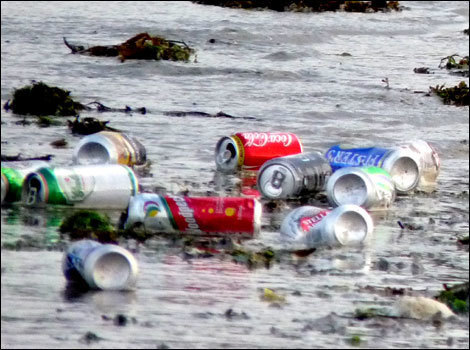litter: (131, 192, 260, 236), (21, 166, 136, 212), (62, 238, 136, 289), (280, 205, 370, 246), (213, 130, 301, 170), (259, 152, 330, 196), (71, 132, 146, 166), (323, 144, 417, 170), (331, 168, 394, 206), (414, 140, 439, 189), (1, 166, 19, 203), (391, 167, 417, 192)
